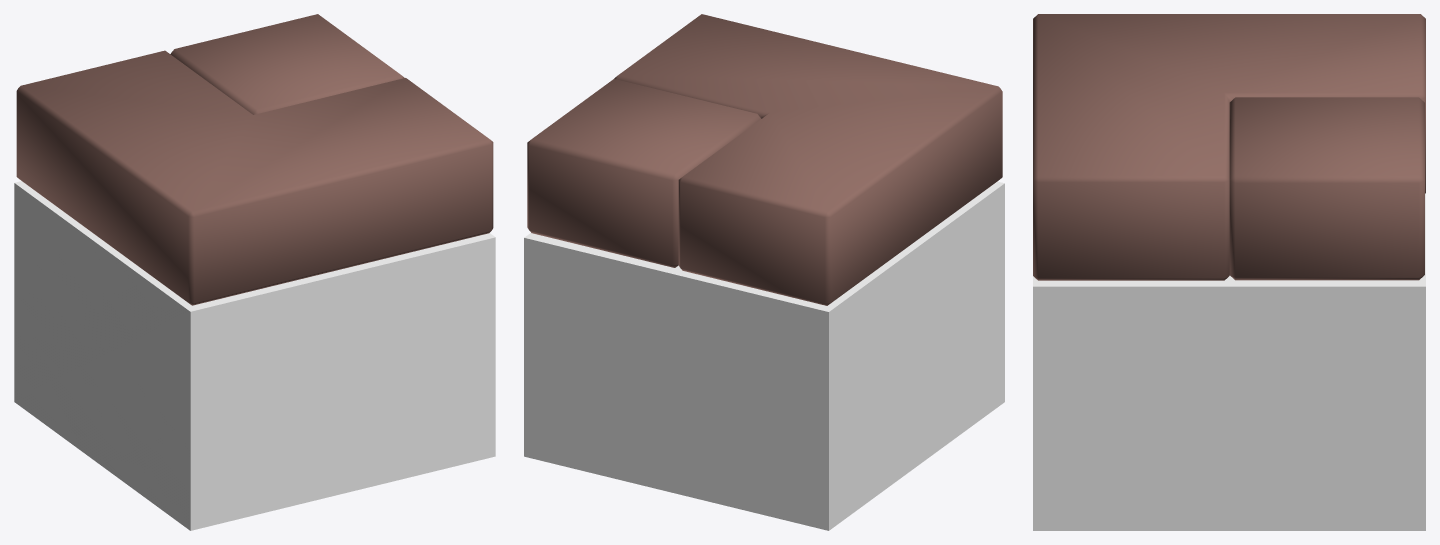
Rendered from Floor12.fbx.
3 renders of one model, left to right at view 1: azimuth 30°, elevation 25°; view 2: azimuth 150°, elevation 25°; view 3: azimuth 270°, elevation 25°, orthographic. The views are drawn at different scales.
Parts seen in each view (by area): view 1: Cube.299; view 2: Cube.299; view 3: Cube.299.
Part boxes in pixels (x1,y1,x2,y2): Cube.299: [14, 14, 495, 530]; Cube.299: [524, 14, 1004, 530]; Cube.299: [1033, 14, 1425, 530].
Bounding box in the file's own units: 100 × 99.22 × 100.
